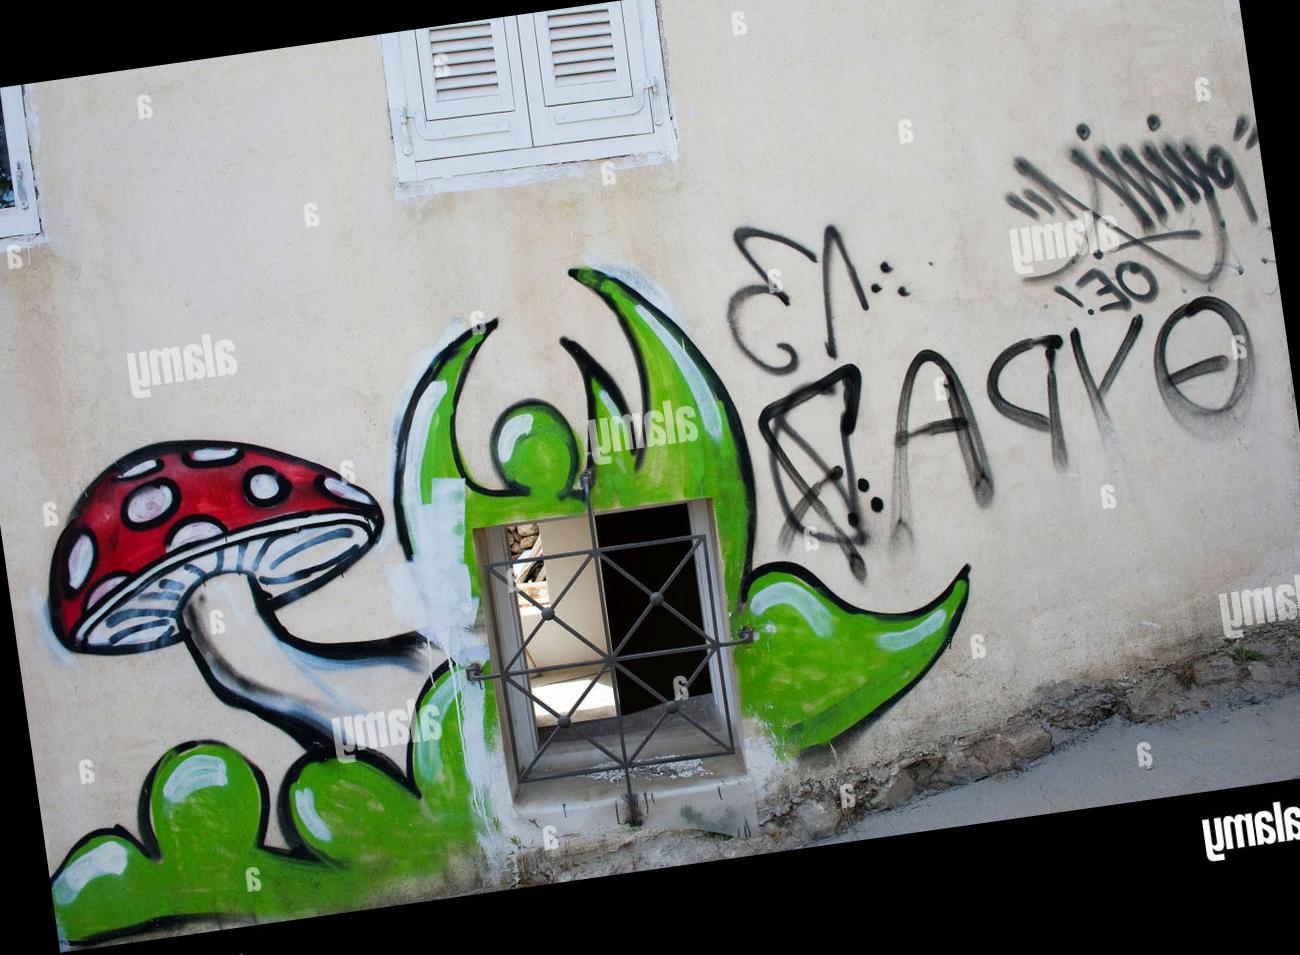graffiti: (50, 441, 475, 935), (394, 262, 752, 541), (984, 123, 1259, 470), (758, 347, 996, 577), (734, 561, 969, 755), (731, 224, 887, 375)
